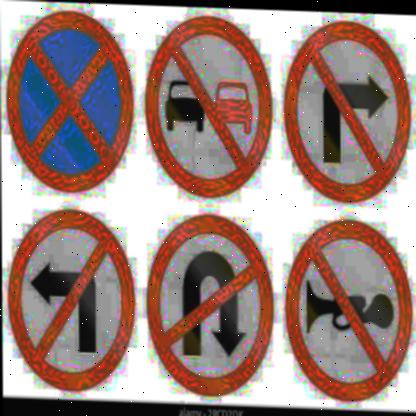No U-turn: (148, 205, 275, 397)
